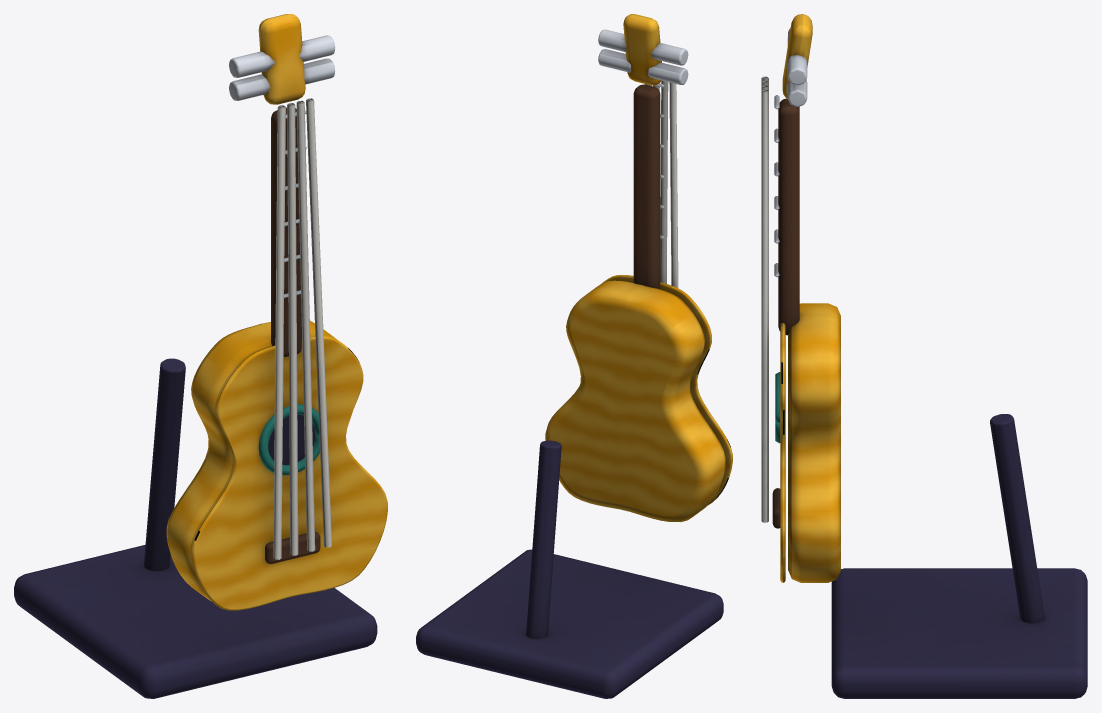
Rendered from Ukulele.fbx.
The picture shows the model from 3 angles, left to right: view 1: azimuth 30°, elevation 25°; view 2: azimuth 150°, elevation 25°; view 3: azimuth 270°, elevation 25°; orthographic projection. The views are drawn at different scales.
Parts seen in each view (by area): view 1: Ukulele_Body, String_0_Mesh.002, String_1_Mesh.002, String_2_Mesh.002, String_3_Mesh.002; view 2: Ukulele_Body, String_0_Mesh.002, String_1_Mesh.002; view 3: Ukulele_Body, String_3_Mesh.002.
Part boxes in pixels (bbox=[...]): Ukulele_Body: bbox=[14, 14, 387, 698]; String_0_Mesh.002: bbox=[273, 105, 285, 559]; String_1_Mesh.002: bbox=[287, 103, 298, 555]; String_2_Mesh.002: bbox=[296, 100, 315, 551]; String_3_Mesh.002: bbox=[306, 98, 331, 547]; Ukulele_Body: bbox=[416, 14, 732, 698]; String_0_Mesh.002: bbox=[669, 82, 678, 287]; String_1_Mesh.002: bbox=[660, 80, 668, 283]; Ukulele_Body: bbox=[772, 14, 1087, 698]; String_3_Mesh.002: bbox=[761, 90, 768, 522].
Size of the model in its own units: 0.3 by 0.8141 by 0.3825.
